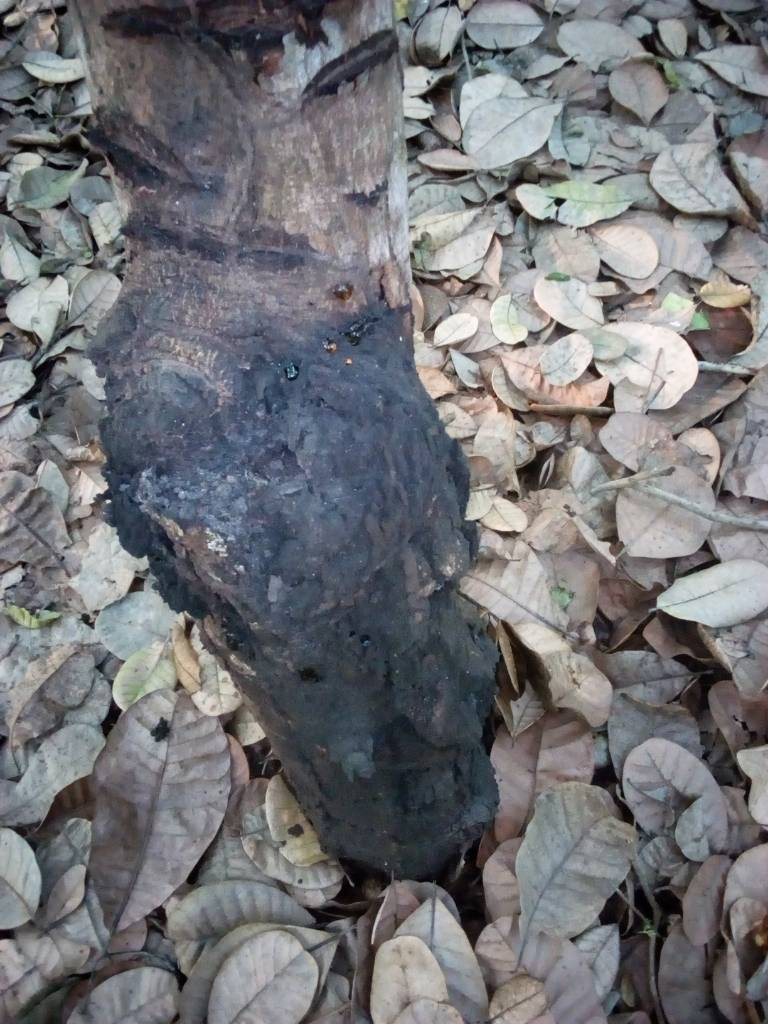Gommose: (102, 305, 479, 664)
